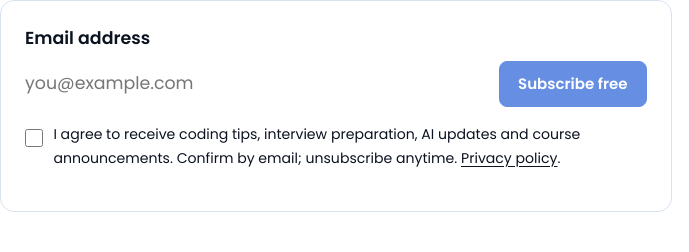
newsletter consent and honest request states › requires explicit consent and sends a normalized email request without claiming delivery
Expected: the button "Subscribe free" is disabled, [499, 61, 647, 107]
In the field labelled "Email address": (256, 84) [25, 61, 487, 107], type "reader@example.com"
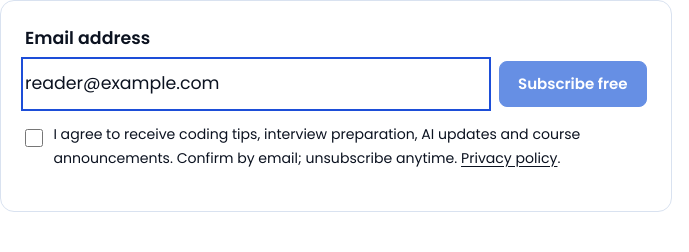
Click the checkbox: click(34, 138) [25, 129, 43, 147]
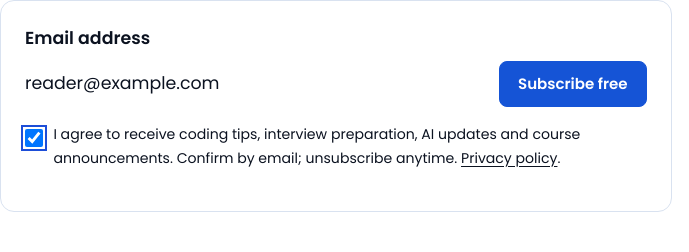
Click the button "Subscribe free": click(573, 84) [499, 61, 647, 107]
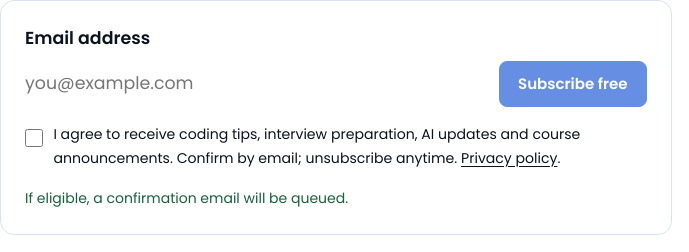
Expected: the message shows "queued", [25, 188, 348, 208]
